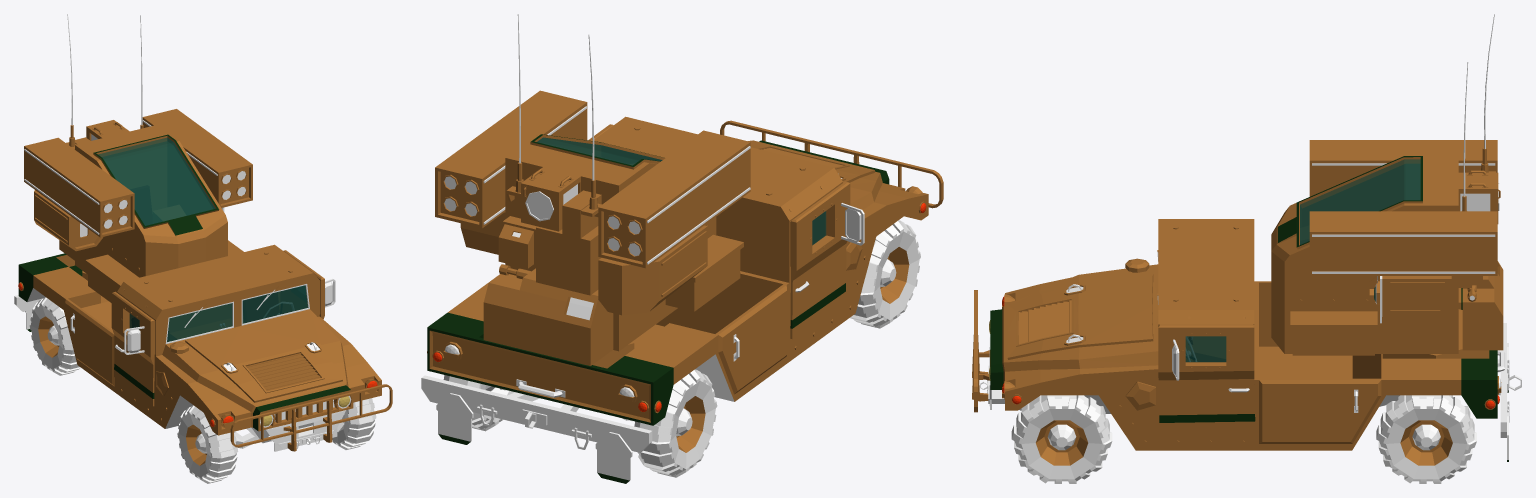
File: Military4x4_04.FBX
3 views of the same model, side by side, from view 1: azimuth 30°, elevation 25°; view 2: azimuth 150°, elevation 25°; view 3: azimuth 270°, elevation 25° (orthographic). The views are drawn at different scales.
Visible parts, largest first — view 1: Military4x4_03, launcherCabin, launcherSocket, launcherGlass, wheel_f_r, interior, wheel_b_r, bumper_f, launcherSensor, grill_t, wheel_f_l, launcherSeat (+1 smaller); view 2: Military4x4_03, launcherCabin, launcherSocket, bumper_b, wheel_b_r, launcherSensor, wheel_f_r, bumper_f, launcherGlass, launcherScope, mirror_r, lights (+1 smaller); view 3: Military4x4_03, launcherCabin, launcherSocket, wheel_b_l, wheel_f_l, launcherGlass, launcherScope, grill_t, interior, bumper_b, bumper_f.
Part boxes in pixels (left/top/right/bottom): Military4x4_03: left=18, top=244, right=381, bottom=451; launcherCabin: left=59, top=120, right=243, bottom=302; launcherSocket: left=24, top=109, right=252, bottom=237; launcherGlass: left=98, top=137, right=215, bottom=225; wheel_f_r: left=177, top=405, right=238, bottom=483; interior: left=130, top=285, right=307, bottom=341; wheel_b_r: left=29, top=297, right=80, bottom=375; bumper_f: left=230, top=384, right=392, bottom=451; launcherSensor: left=34, top=190, right=103, bottom=251; grill_t: left=246, top=353, right=320, bottom=390; wheel_f_l: left=332, top=398, right=376, bottom=449; launcherSeat: left=131, top=186, right=151, bottom=224; Military4x4_03: left=427, top=116, right=928, bottom=425; launcherCabin: left=483, top=134, right=743, bottom=365; launcherSocket: left=435, top=90, right=750, bottom=268; bumper_b: left=421, top=375, right=652, bottom=483; wheel_b_r: left=634, top=369, right=717, bottom=477; launcherSensor: left=598, top=225, right=707, bottom=315; wheel_f_r: left=850, top=220, right=920, bottom=328; bumper_f: left=720, top=120, right=943, bottom=208; launcherGlass: left=537, top=137, right=662, bottom=165; launcherScope: left=460, top=212, right=505, bottom=254; mirror_r: left=841, top=203, right=864, bottom=245; lights: left=432, top=186, right=925, bottom=413; Military4x4_03: left=980, top=219, right=1505, bottom=450; launcherCabin: left=1271, top=156, right=1503, bottom=355; launcherSocket: left=1309, top=140, right=1497, bottom=275; wheel_b_l: left=1376, top=395, right=1476, bottom=483; wheel_f_l: left=1011, top=395, right=1112, bottom=483; launcherGlass: left=1300, top=159, right=1420, bottom=244; launcherScope: left=1369, top=276, right=1451, bottom=323; grill_t: left=1018, top=300, right=1071, bottom=344; interior: left=1186, top=336, right=1225, bottom=361; bumper_b: left=1497, top=323, right=1521, bottom=461; bumper_f: left=972, top=290, right=989, bottom=412.
Size of the model in its own units: 30.77 by 45.61 by 56.29.
